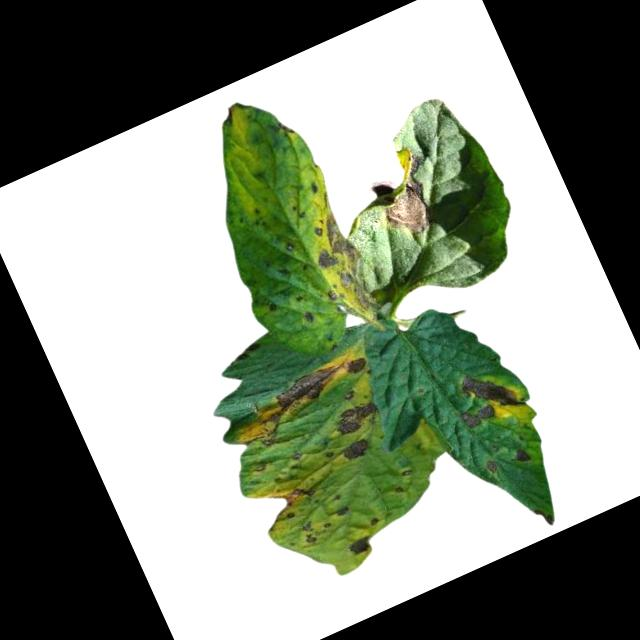Early_blight: (301, 205, 386, 326), (361, 142, 450, 246), (252, 359, 352, 431), (460, 361, 522, 424), (330, 397, 381, 440), (457, 398, 500, 435), (336, 434, 374, 467), (276, 482, 316, 512), (218, 100, 252, 129), (341, 353, 370, 380), (295, 521, 320, 550), (347, 534, 375, 558), (511, 446, 533, 469), (483, 457, 501, 478), (302, 309, 320, 329), (333, 507, 350, 522)
